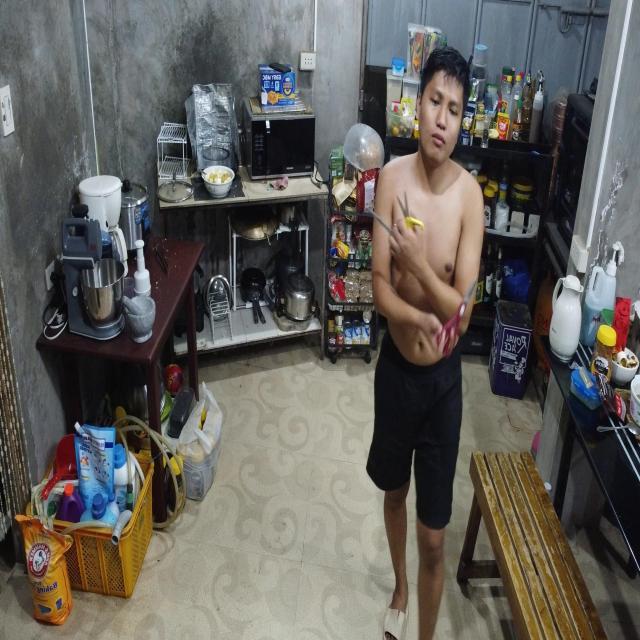scissor: (436, 275, 477, 360), (367, 206, 401, 248), (397, 191, 425, 239)
